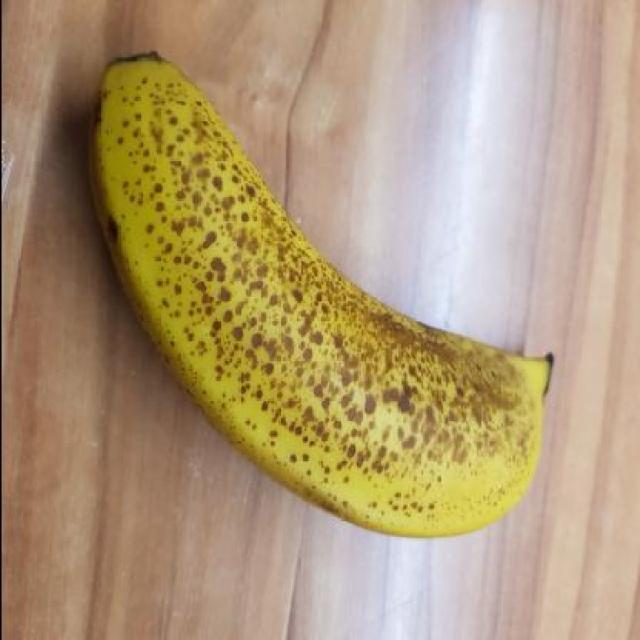Banana: (80, 51, 554, 544)
